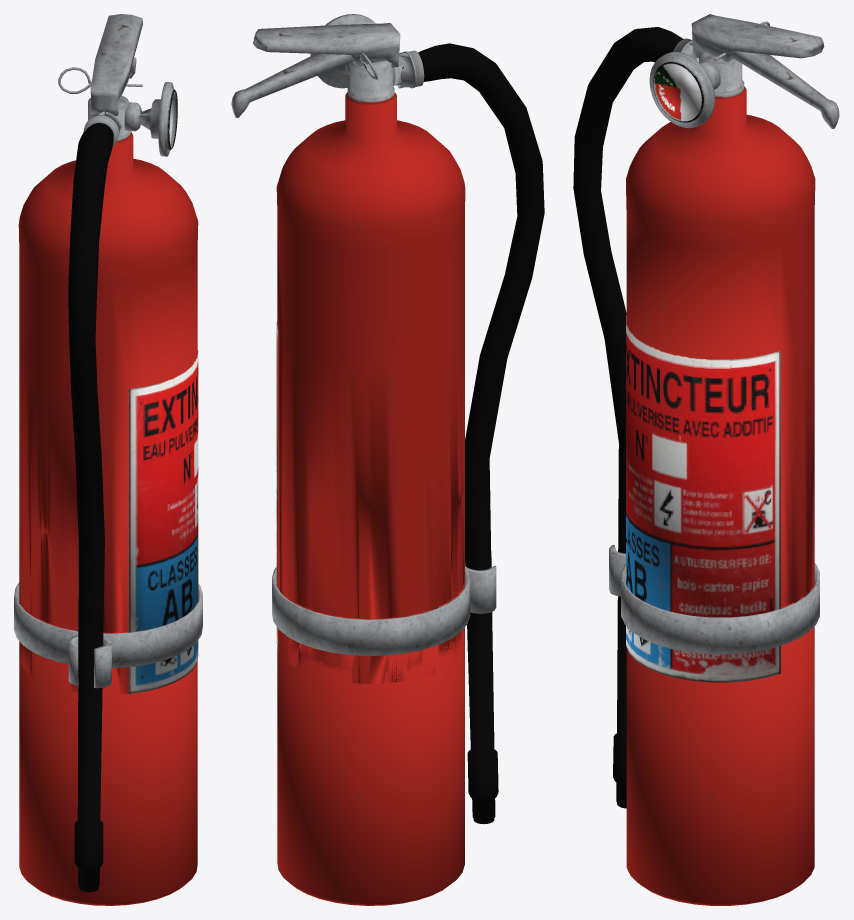
File: EXTINGUISHER.fbx
The picture shows the model from 3 angles, left to right: view 1: azimuth 30°, elevation 25°; view 2: azimuth 150°, elevation 25°; view 3: azimuth 270°, elevation 25°; orthographic projection. The views are drawn at different scales.
Parts seen in each view (by area): view 1: extinguisher box; view 2: extinguisher box; view 3: extinguisher box.
Boxes of the visible parts, bbox=[...] form: extinguisher box: bbox=[14, 14, 202, 905]; extinguisher box: bbox=[231, 14, 544, 905]; extinguisher box: bbox=[573, 14, 839, 905].
Size of the model in its own units: 84.97 by 361 by 102.
